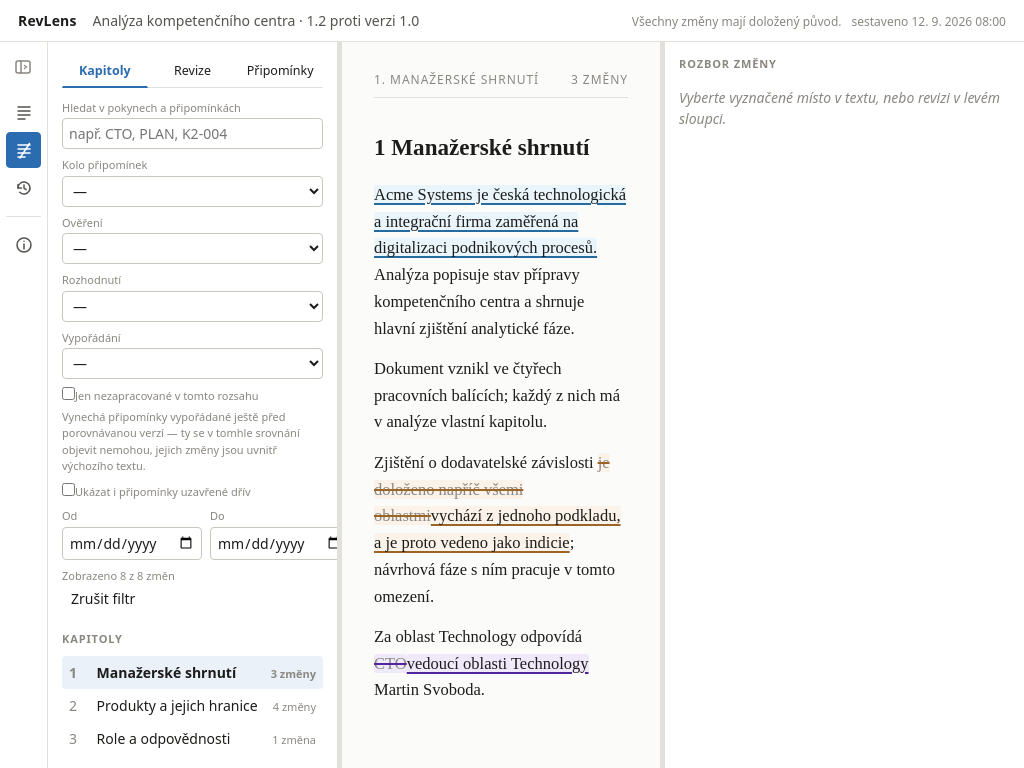
Scenario: the About page › names the version of the tool the reader is looking at
Check: the element showing "1 Manažerské shrnutí" is shown, box 374,134 -> 590,160
Click the button named "O nástroji". click: (24, 245)
box: 6,227 -> 41,263
(page scrolled)
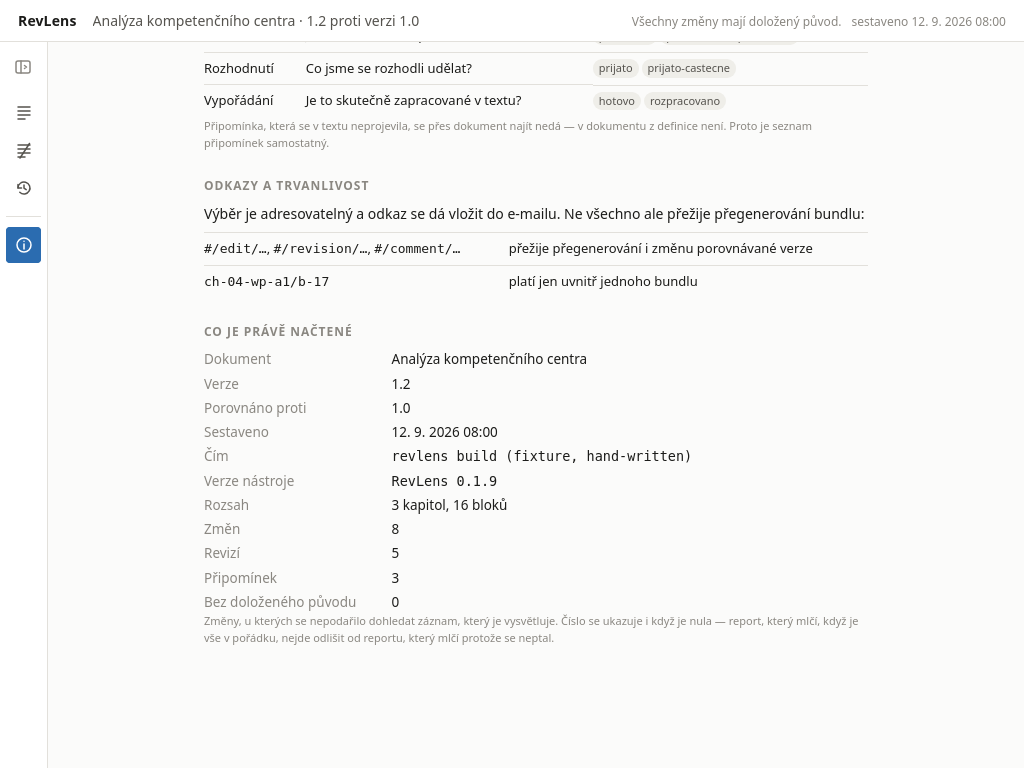
Check: the heading "Co je právě načtené" is shown, box 204,323 -> 353,340
Check: the text "Verze nástroje" is shown, box 204,472 -> 294,490
